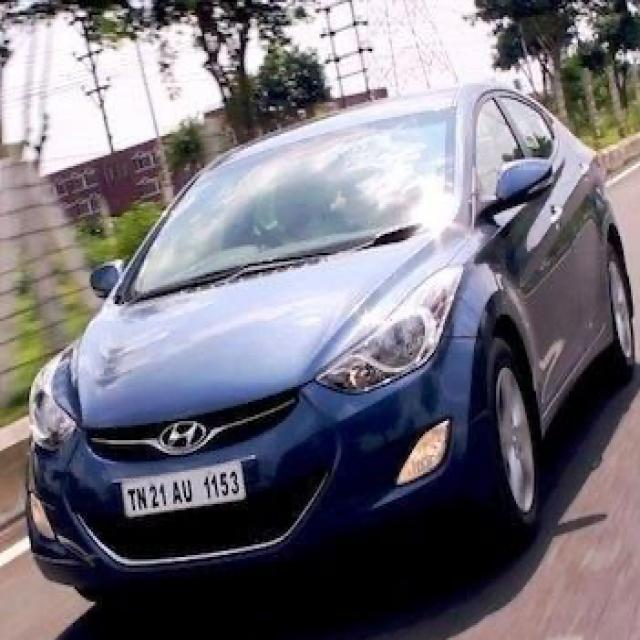Plate: (118, 458, 247, 518)
